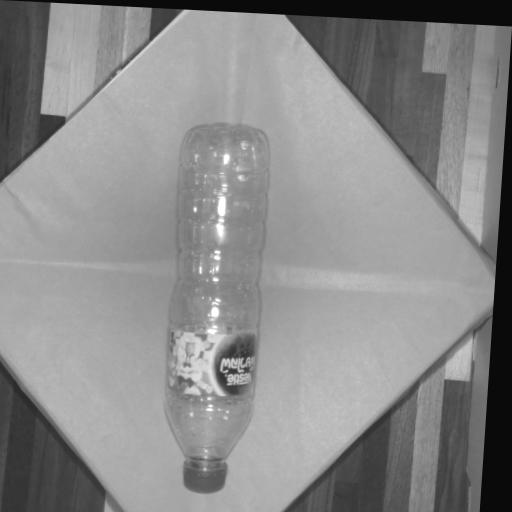bottle: (142, 101, 288, 501)
